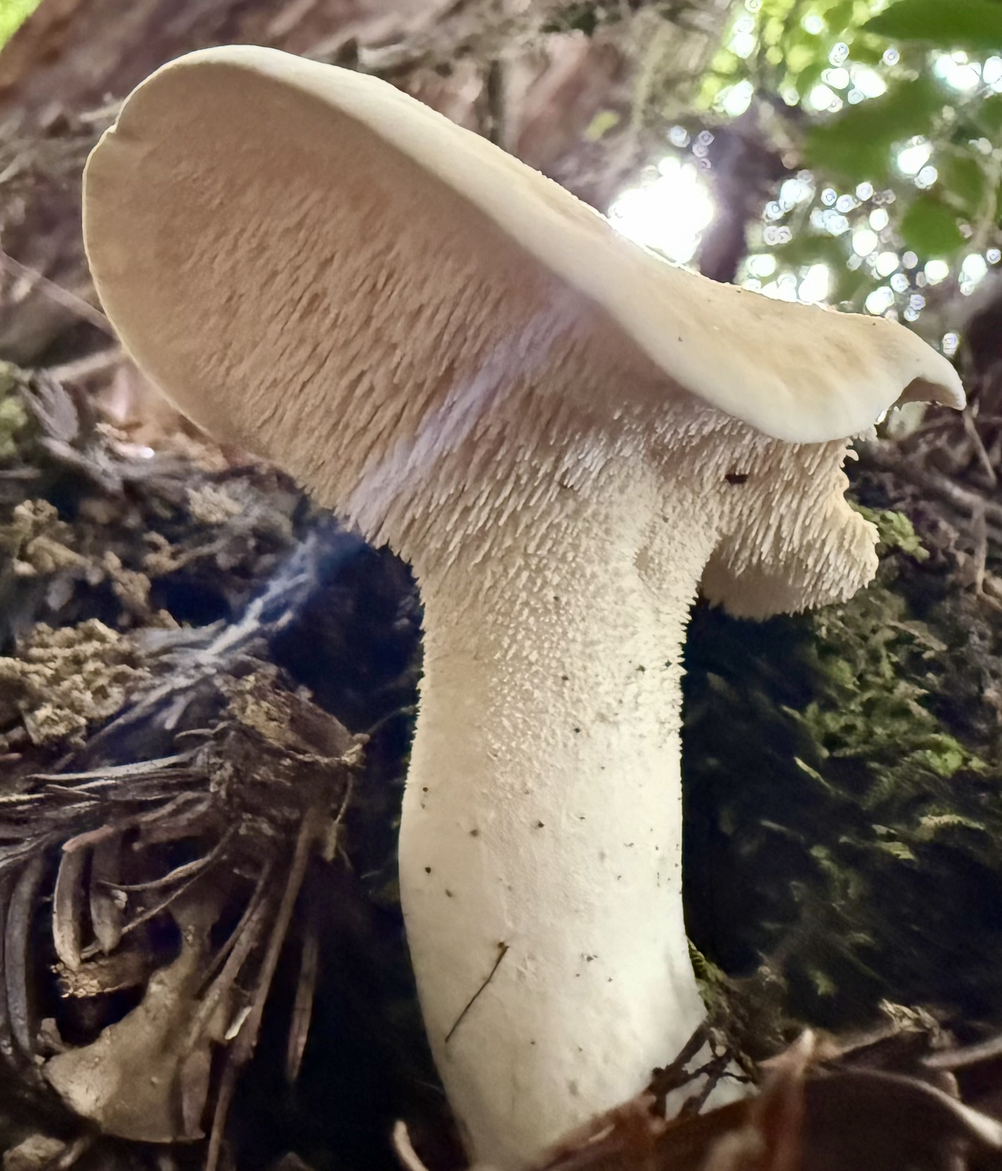stem: (399, 668, 702, 1165)
underside: (84, 58, 877, 692)
